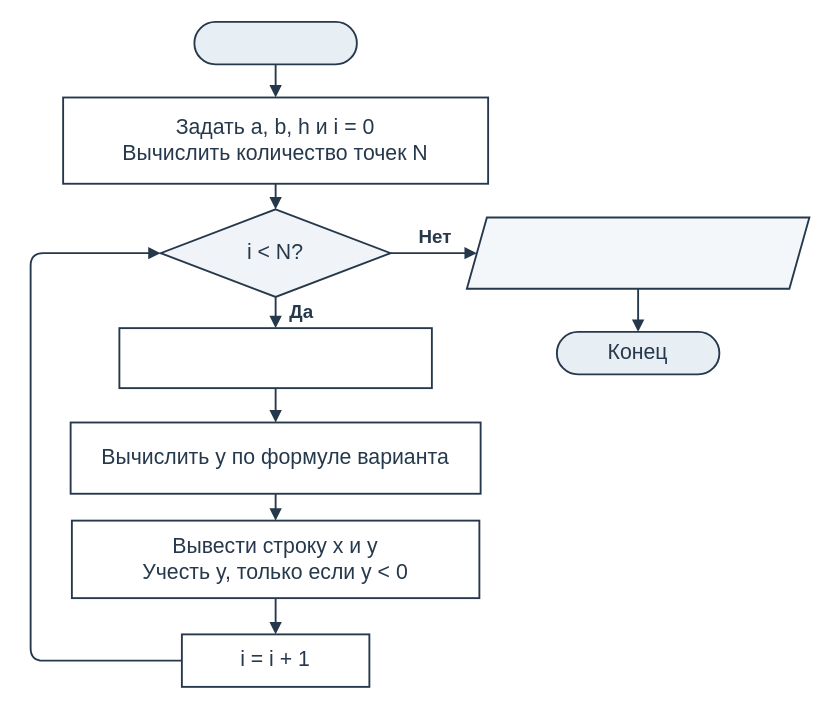
The diagram is 833 pixels wide and 710 high, and some of its shapes have lost their labels. Here are the shapes that lost their labels. From the top down, the box of each, then its label:
(193, 20, 357, 65): Начало
(465, 216, 810, 289): Вывести итог
(118, 327, 432, 388): Вычислить x = a + i · h
